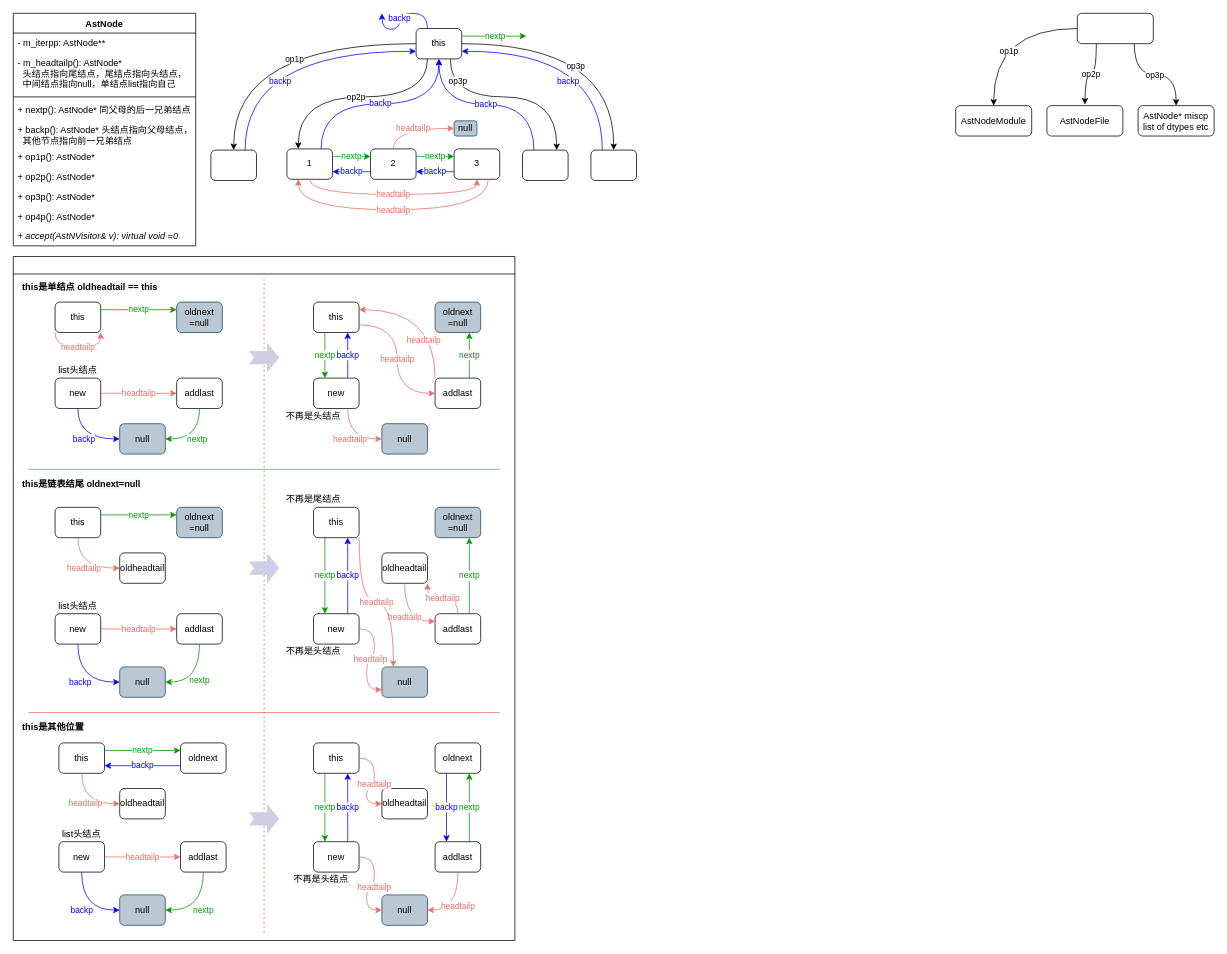
Image size: 1227x954. Some labels were removed from this diagram. Here are the shapes that lost their labels. From the top down, the box of each, then its label:
(1077, 13, 1153, 44): AstNetList
(13, 256, 515, 940): AstNode::addNextHere
